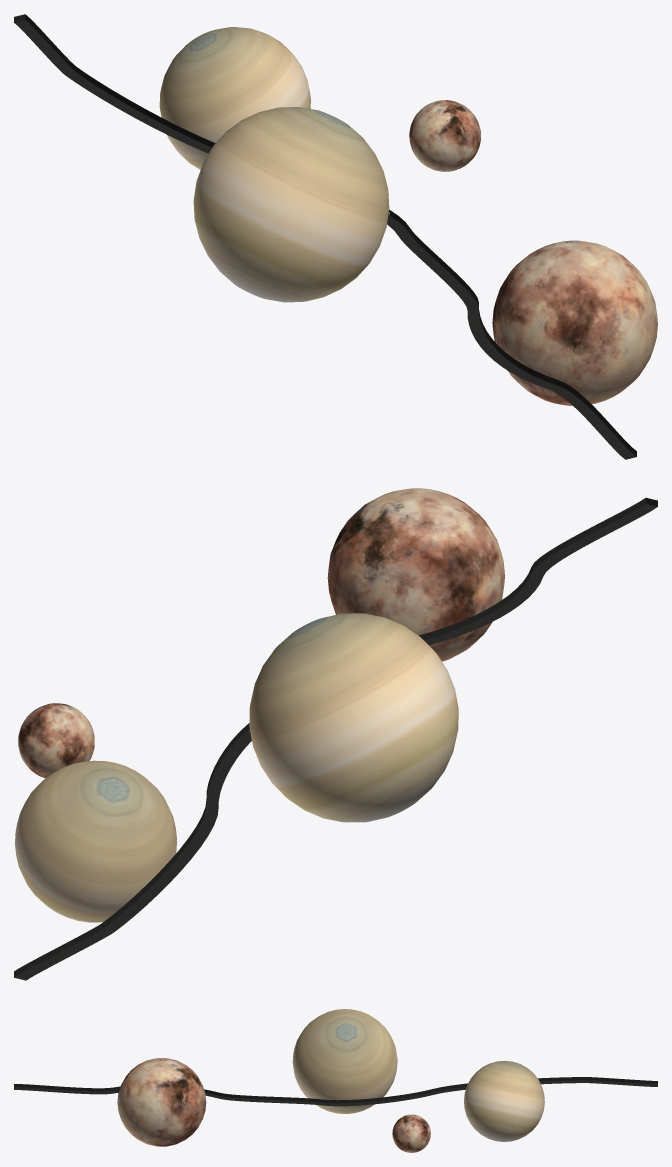
The model's file is surrealism (1).fbx.
3 renders of one model, top to bottom at view 1: azimuth 30°, elevation 25°; view 2: azimuth 150°, elevation 25°; view 3: azimuth 270°, elevation 25°, orthographic. The views are drawn at different scales.
Visible parts, largest first — view 1: Sphere.001, Sphere, Sphere.003, Sphere.002, BezierCurve.005, BezierCurve.004, BezierCurve.003, BezierCurve.002, BezierCurve; view 2: Sphere.001, Sphere, Sphere.003, Sphere.002, BezierCurve.005, BezierCurve.003, BezierCurve.002, BezierCurve, BezierCurve.001; view 3: Sphere.001, Sphere, Sphere.003, Sphere.002, BezierCurve.004, BezierCurve.002, BezierCurve.001, BezierCurve.005, BezierCurve.
Part boxes in pixels (x1=…): Sphere.001: x1=193, y1=107, x2=389, y2=302; Sphere: x1=492, y1=240, x2=657, y2=405; Sphere.003: x1=159, y1=27, x2=310, y2=169; Sphere.002: x1=409, y1=100, x2=480, y2=171; BezierCurve.005: x1=66, y1=67, x2=215, y2=153; BezierCurve.004: x1=387, y1=210, x2=477, y2=306; BezierCurve.003: x1=466, y1=299, x2=564, y2=391; BezierCurve.002: x1=554, y1=383, x2=636, y2=459; BezierCurve: x1=14, y1=14, x2=76, y2=75; Sphere.001: x1=249, y1=613, x2=458, y2=822; Sphere: x1=327, y1=488, x2=504, y2=661; Sphere.003: x1=15, y1=760, x2=176, y2=922; Sphere.002: x1=18, y1=703, x2=94, y2=778; BezierCurve.005: x1=102, y1=807, x2=217, y2=932; BezierCurve.003: x1=419, y1=563, x2=545, y2=644; BezierCurve.002: x1=534, y1=497, x2=657, y2=571; BezierCurve: x1=14, y1=923, x2=113, y2=980; BezierCurve.001: x1=205, y1=724, x2=251, y2=815; Sphere.001: x1=292, y1=1009, x2=397, y2=1113; Sphere: x1=117, y1=1058, x2=206, y2=1146; Sphere.003: x1=464, y1=1060, x2=544, y2=1141; Sphere.002: x1=392, y1=1114, x2=430, y2=1152; BezierCurve.004: x1=224, y1=1093, x2=345, y2=1106; BezierCurve.002: x1=14, y1=1084, x2=108, y2=1094; BezierCurve.001: x1=346, y1=1087, x2=440, y2=1106; BezierCurve.005: x1=441, y1=1077, x2=586, y2=1093; BezierCurve: x1=586, y1=1077, x2=657, y2=1086.
Bounding box in the file's own units: 33276 × 104457 × 17912.
5 materials, 5 textured.
